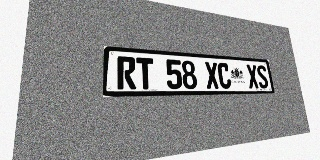5: (166, 59, 183, 89)
8: (181, 60, 197, 89)
C: (217, 62, 232, 89)
R: (117, 56, 136, 89)
S: (256, 65, 269, 88)
T: (136, 57, 154, 89)
X: (204, 62, 220, 89), (246, 64, 259, 88)
